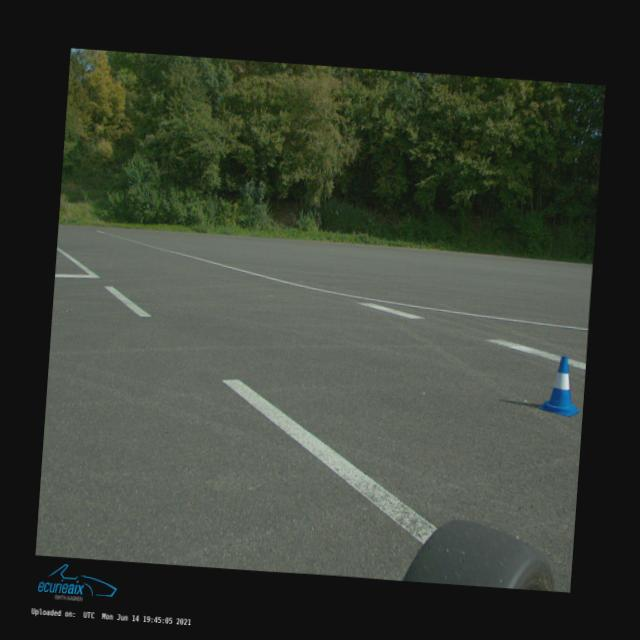blue_cone: (538, 354, 582, 416)
